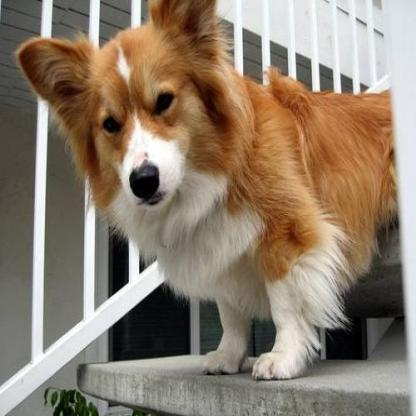Pembroke: (11, 0, 395, 379)
